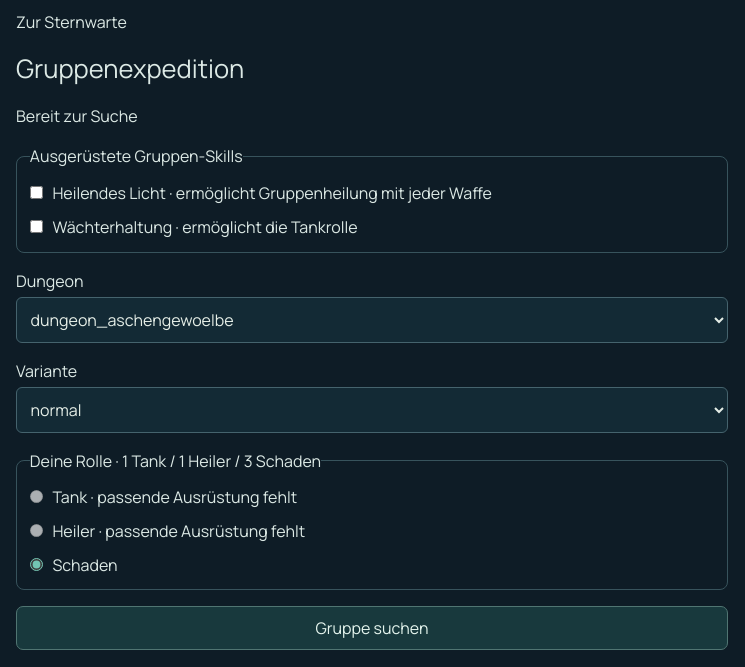
Test: AIM-259 confirmed group UI › keeps controls disabled until the post-command readback finishes
This screenshot has width=745, height=667.
Click the button "Gruppe suchen" at (372, 628), box [16,606,728,650]
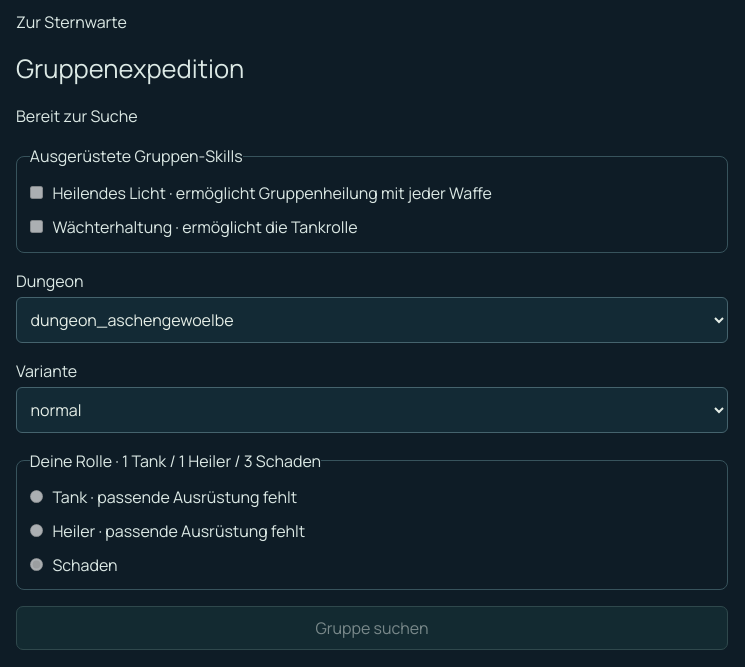
Now the button "Gruppe suchen" is disabled
Click the button "Gruppe suchen" at (372, 628), box [16,606,728,650]
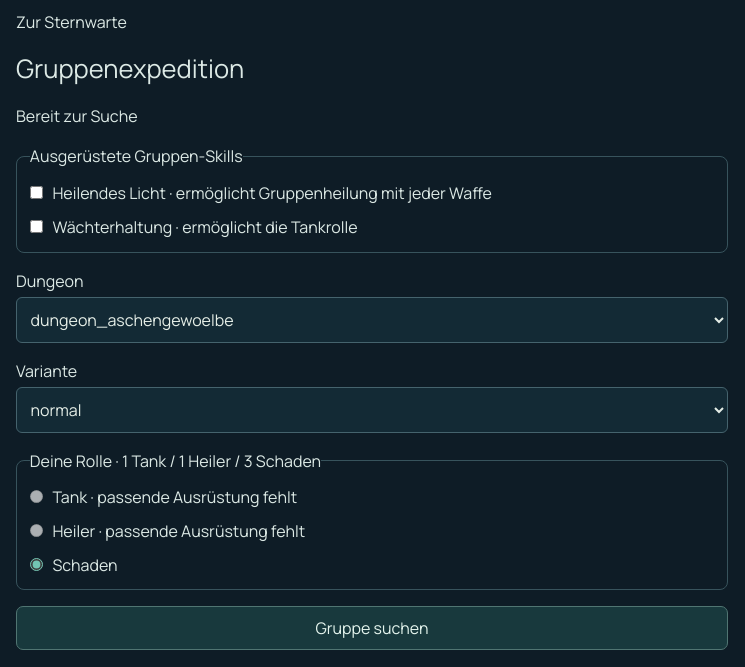
Now the button "Gruppe suchen" is enabled, box [16,606,728,650]
